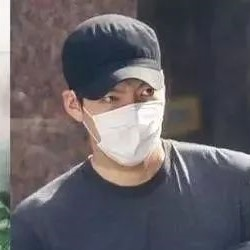mask: (87, 97, 168, 166)
